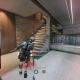Character: (10, 35, 36, 78), (43, 18, 47, 27)
Head: (29, 36, 35, 43), (43, 17, 44, 19)
